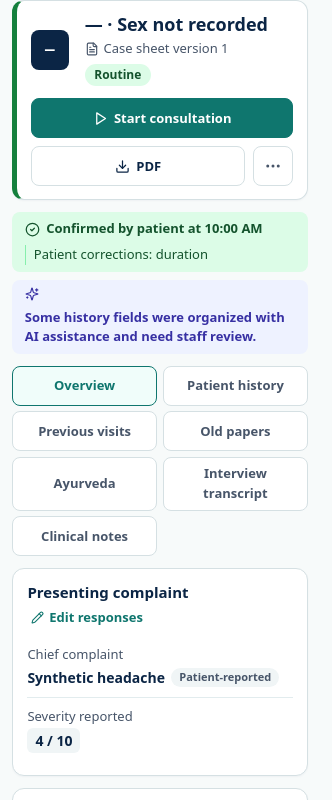
Phase 7.4 doctor consultation › lists what the patient did not know or preferred not to say, and adds an Ayurveda tab
The width and height of the screenshot is (332, 800).
Click the tab "Patient history" at (235, 386), box [163,366,308,406]
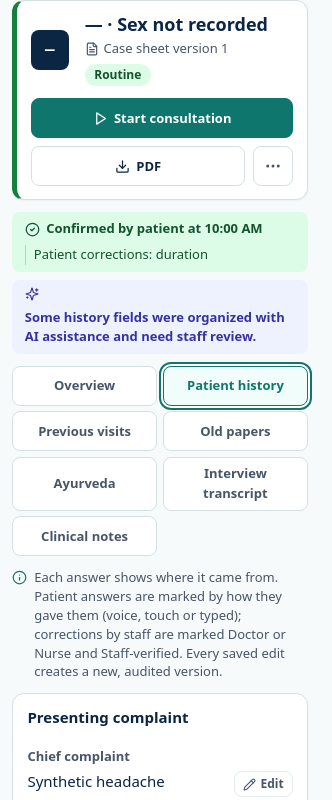
Click the tab "Ayurveda" at (85, 484), box [12,457,157,511]
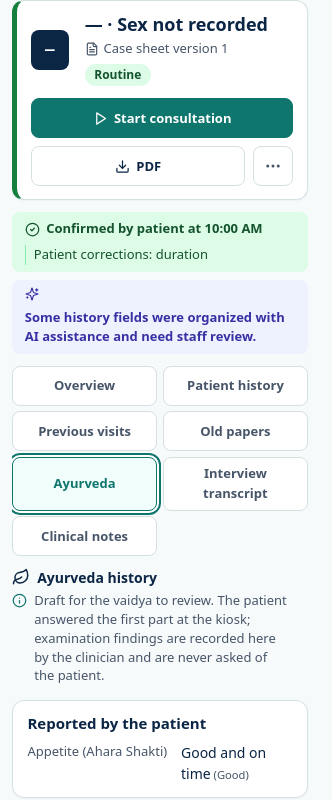
Now the heading "Ayurveda history" is shown, box [12,568,157,586]
Now the text "Good and on time" is shown, box [181,743,266,783]
